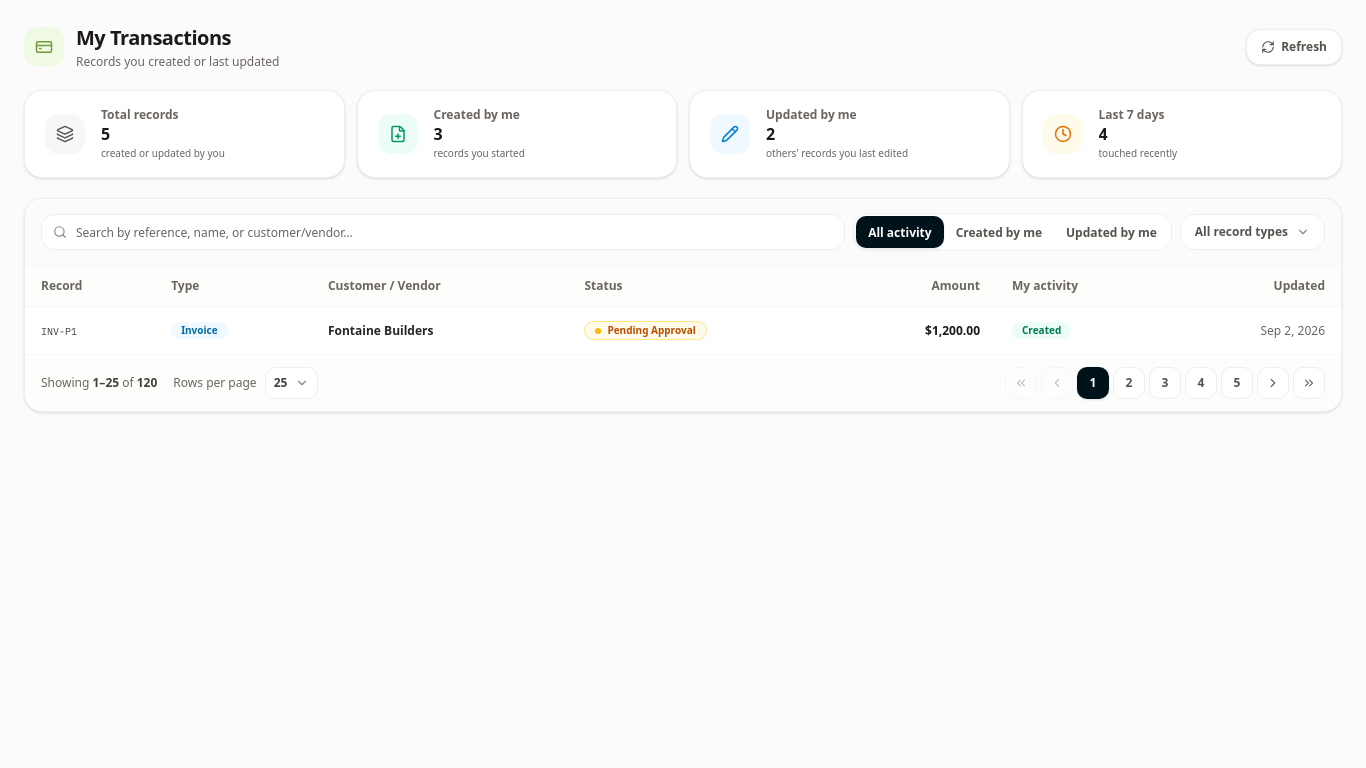
TransactionsPage › pagination › goes back to page 1 when the page size changes
This screenshot has width=1366, height=768.
expect the link "INV-P1" is shown: met, box [41, 325, 77, 338]
Click the button named "Page 3". click: (1165, 383)
box: [1149, 367, 1181, 399]
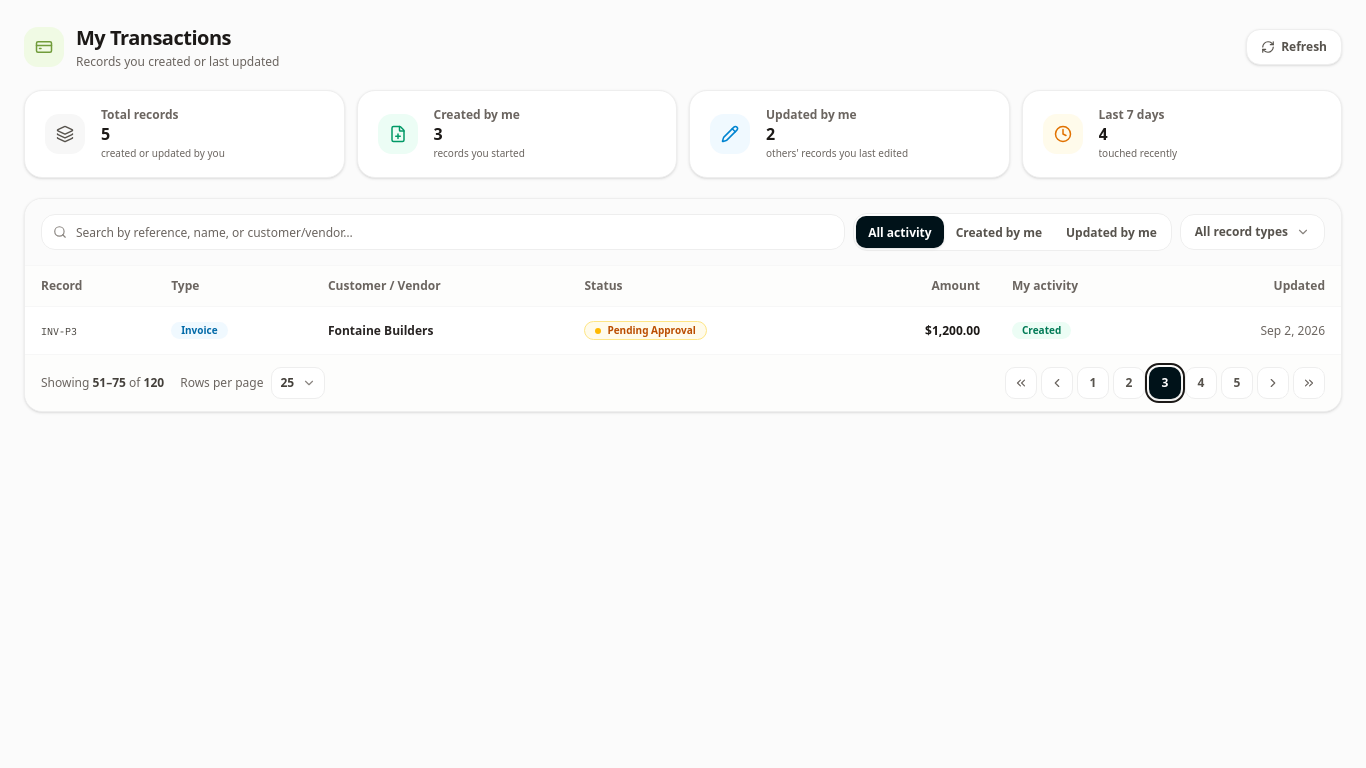
expect the link "INV-P3" is shown: met, box [41, 325, 77, 338]
Click the dropdown named "rows per page". click: (298, 383)
box: [272, 367, 325, 399]
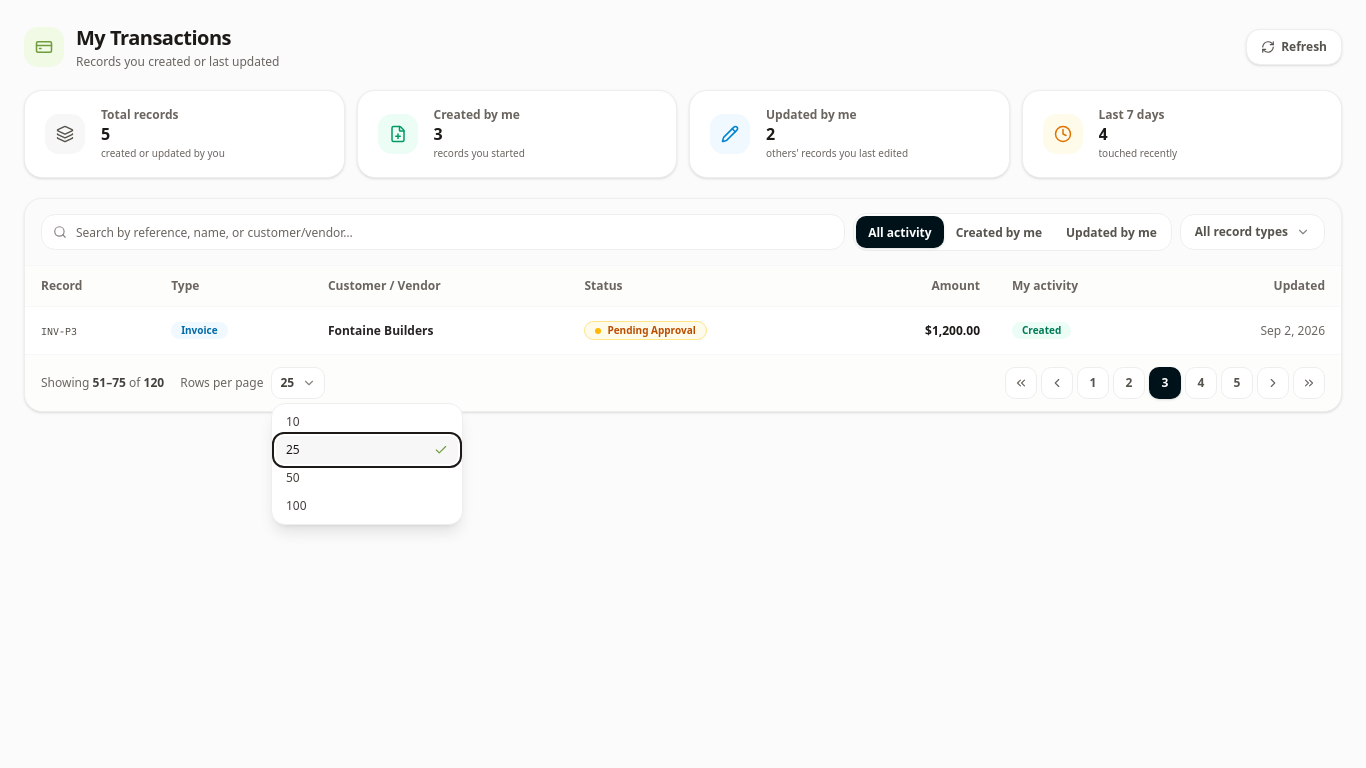
Click the option "50". click: (367, 478)
box: [276, 464, 458, 492]
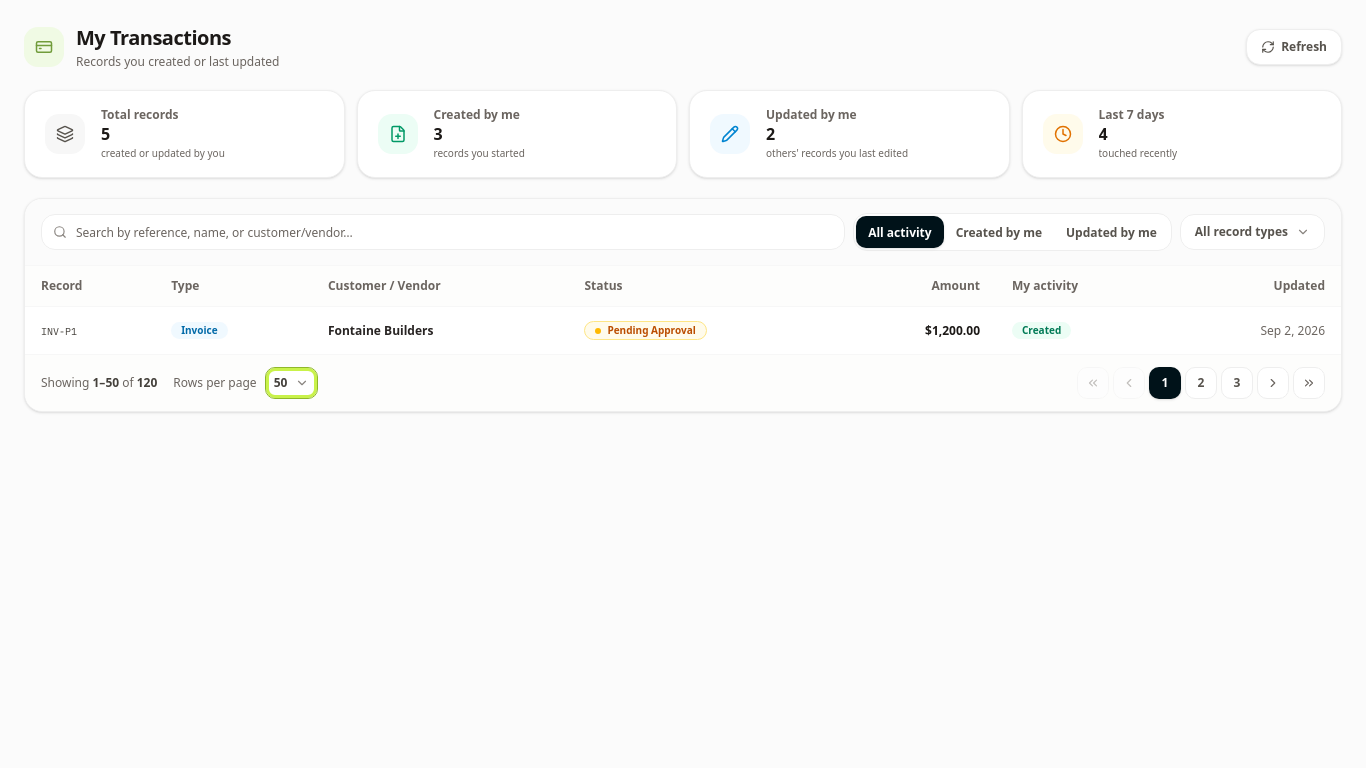
expect the link "INV-P1" is shown: met, box [41, 325, 77, 338]
